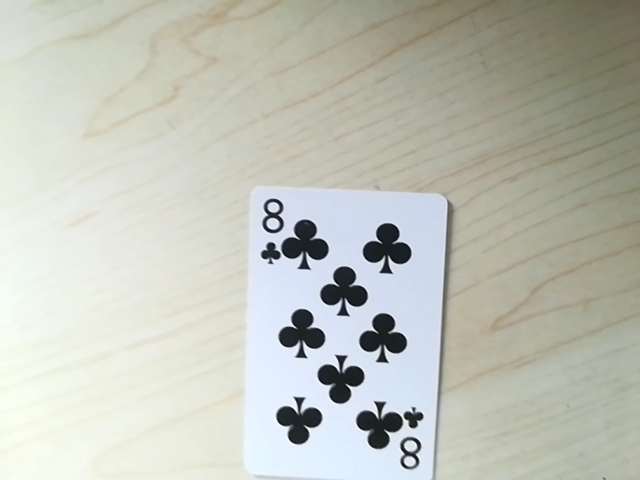mh 8: (380, 411, 427, 473), (253, 190, 290, 262)
